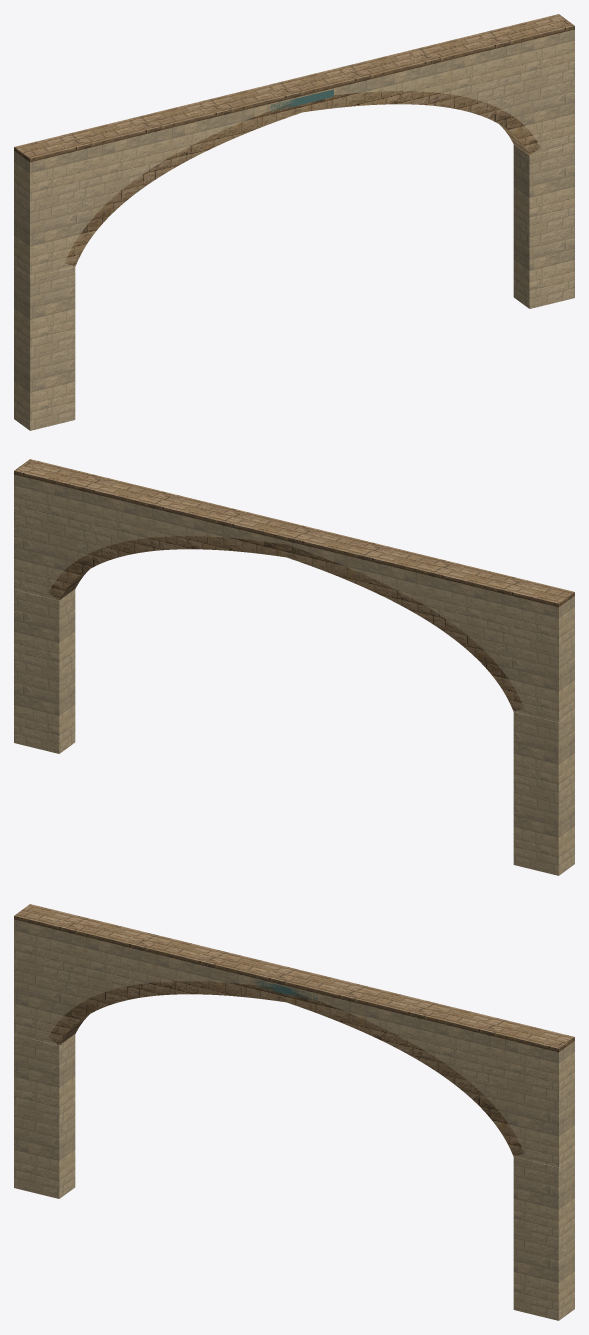
Rendered from bz04-rug-gate 2.glb.
3 renders of one model, top to bottom at view 1: azimuth 30°, elevation 25°; view 2: azimuth 150°, elevation 25°; view 3: azimuth 330°, elevation 25°, orthographic.
Parts seen in each view (by area): view 1: bz06_dressed_sandstone.001-cast, ph_bz04_stone_trim_sandstone.001-cast; view 2: bz06_dressed_sandstone.001-cast, ph_bz04_stone_trim_sandstone.001-cast; view 3: bz06_dressed_sandstone.001-cast, ph_bz04_stone_trim_sandstone.001-cast.
Boxes of the visible parts, <box> form: bz06_dressed_sandstone.001-cast: <box>14,29,574,430</box>; ph_bz04_stone_trim_sandstone.001-cast: <box>14,14,574,266</box>; bz06_dressed_sandstone.001-cast: <box>14,474,574,875</box>; ph_bz04_stone_trim_sandstone.001-cast: <box>14,459,574,711</box>; bz06_dressed_sandstone.001-cast: <box>14,919,574,1320</box>; ph_bz04_stone_trim_sandstone.001-cast: <box>14,904,574,1156</box>.
Size of the model in its own units: 15.6 by 7.45 by 0.8.
Materials: 4 (3 with a texture image).
